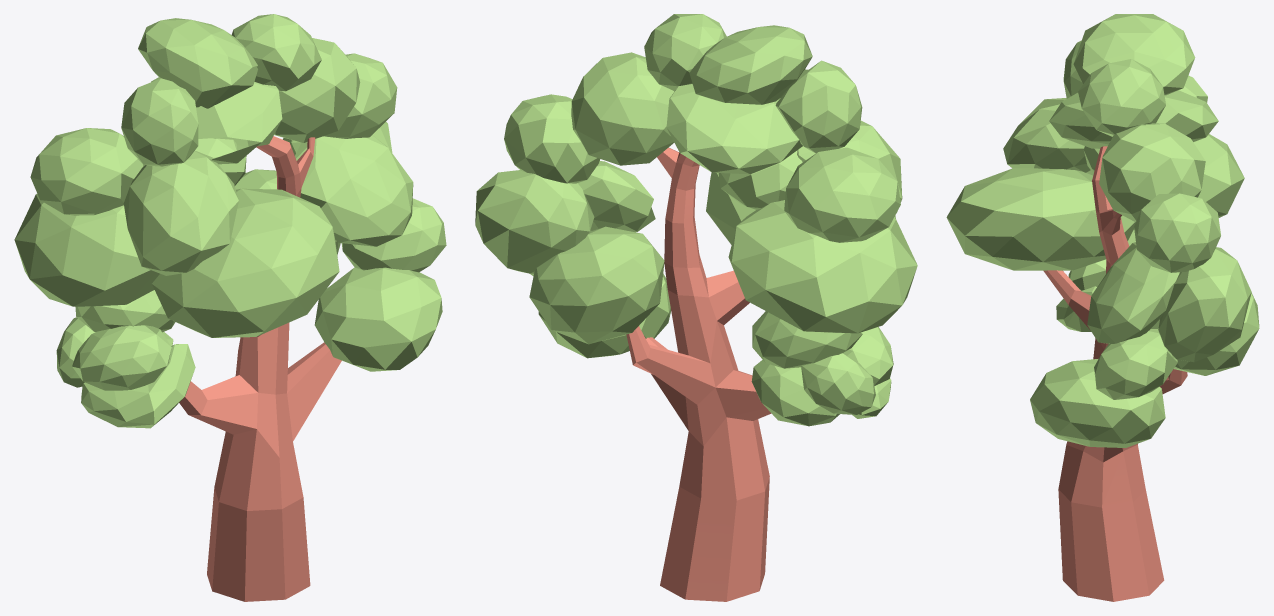
Rendered from Arbol_Intro.fbx.
3 views of the same model, side by side, from view 1: azimuth 30°, elevation 25°; view 2: azimuth 150°, elevation 25°; view 3: azimuth 270°, elevation 25° (orthographic). The views are drawn at different scales.
Parts seen in each view (by area): view 1: Arbol_Intro; view 2: Arbol_Intro; view 3: Arbol_Intro.
Part boxes in pixels (<box>): Arbol_Intro: <box>14,14,446,601</box>; Arbol_Intro: <box>475,14,917,601</box>; Arbol_Intro: <box>946,14,1259,601</box>.
Size of the model in its own units: 396 by 531 by 284.
